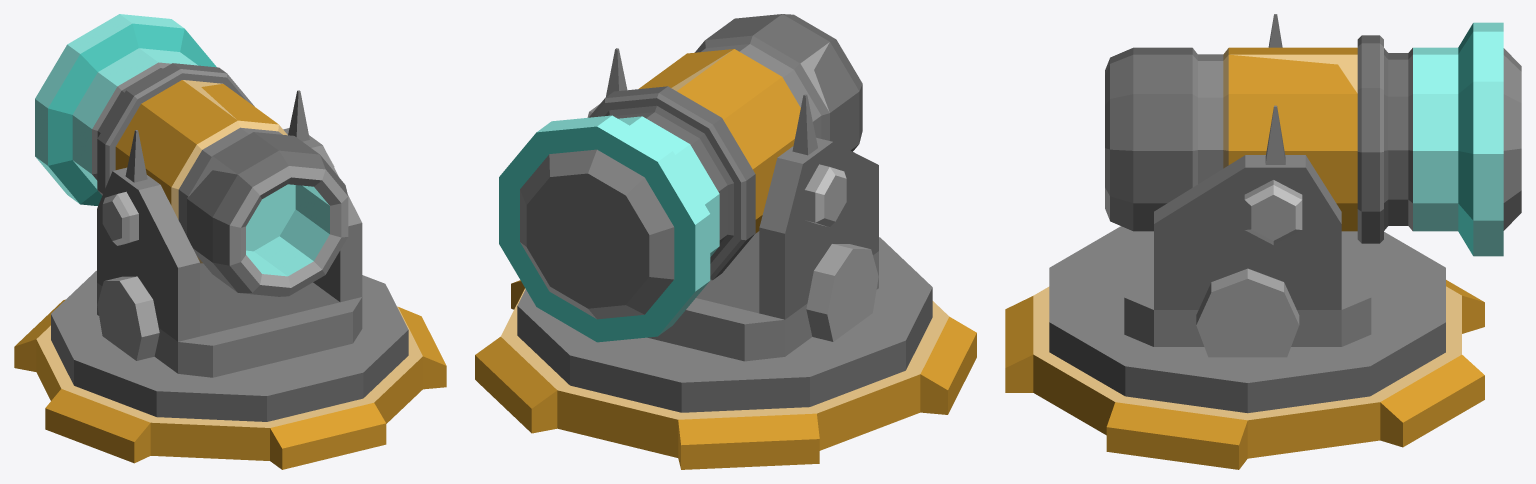
Rendered from tower_plasma_yellow_2.fbx.
The picture shows the model from 3 angles, left to right: view 1: azimuth 30°, elevation 25°; view 2: azimuth 150°, elevation 25°; view 3: azimuth 270°, elevation 25°; orthographic projection. The views are drawn at different scales.
Parts seen in each view (by area): view 1: top_plasma_yellow_2, tower_plasma_yellow_2; view 2: top_plasma_yellow_2, tower_plasma_yellow_2; view 3: top_plasma_yellow_2, tower_plasma_yellow_2.
Part boxes in pixels (x1,y1,x2,y2): top_plasma_yellow_2: [35, 14, 362, 377]; tower_plasma_yellow_2: [14, 270, 446, 469]; top_plasma_yellow_2: [499, 14, 878, 361]; tower_plasma_yellow_2: [475, 237, 976, 469]; top_plasma_yellow_2: [1105, 14, 1521, 357]; tower_plasma_yellow_2: [1005, 226, 1484, 469].
Bounding box in the file's own units: 159 × 115 × 162.
